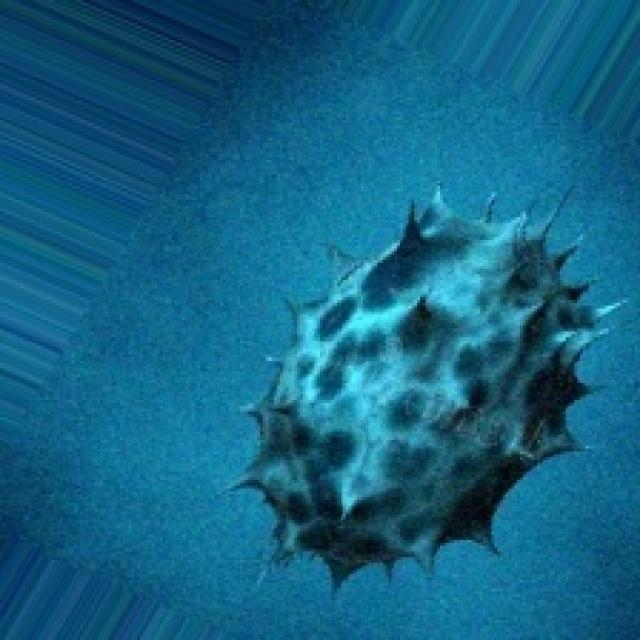Spherical_bacteria: (223, 177, 626, 592)
